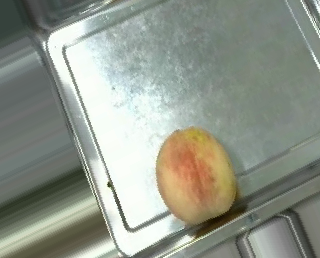Peach: (155, 125, 237, 224)
